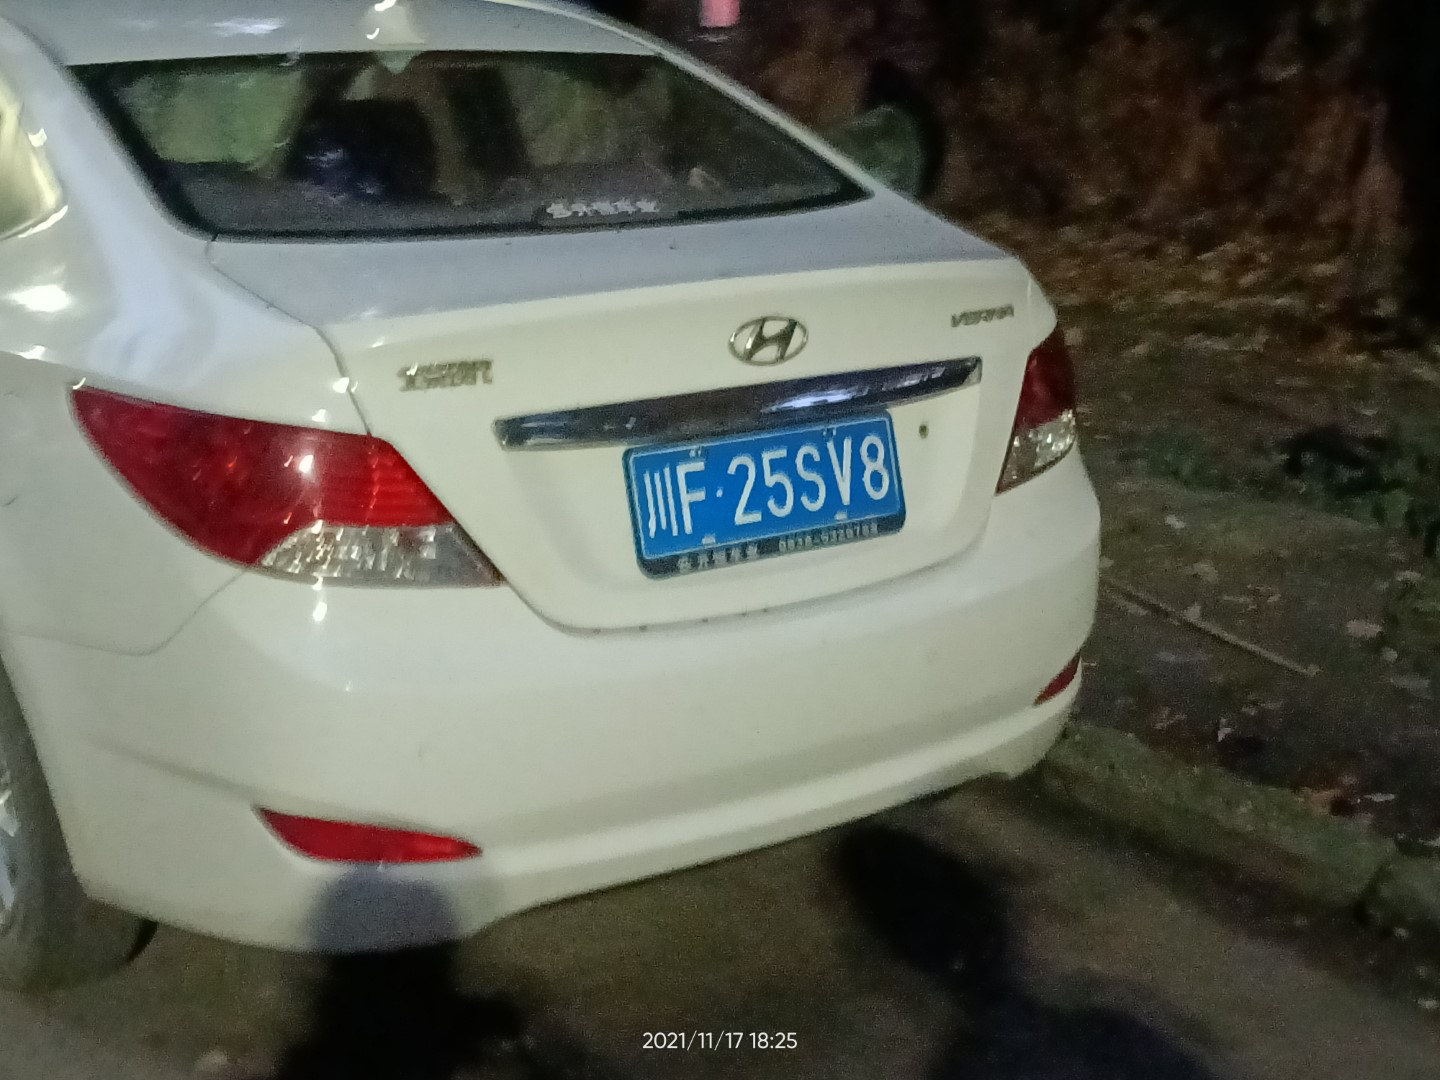plate: (625, 411, 904, 565)
